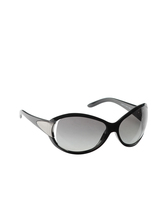glasses: (14, 94, 155, 155)
